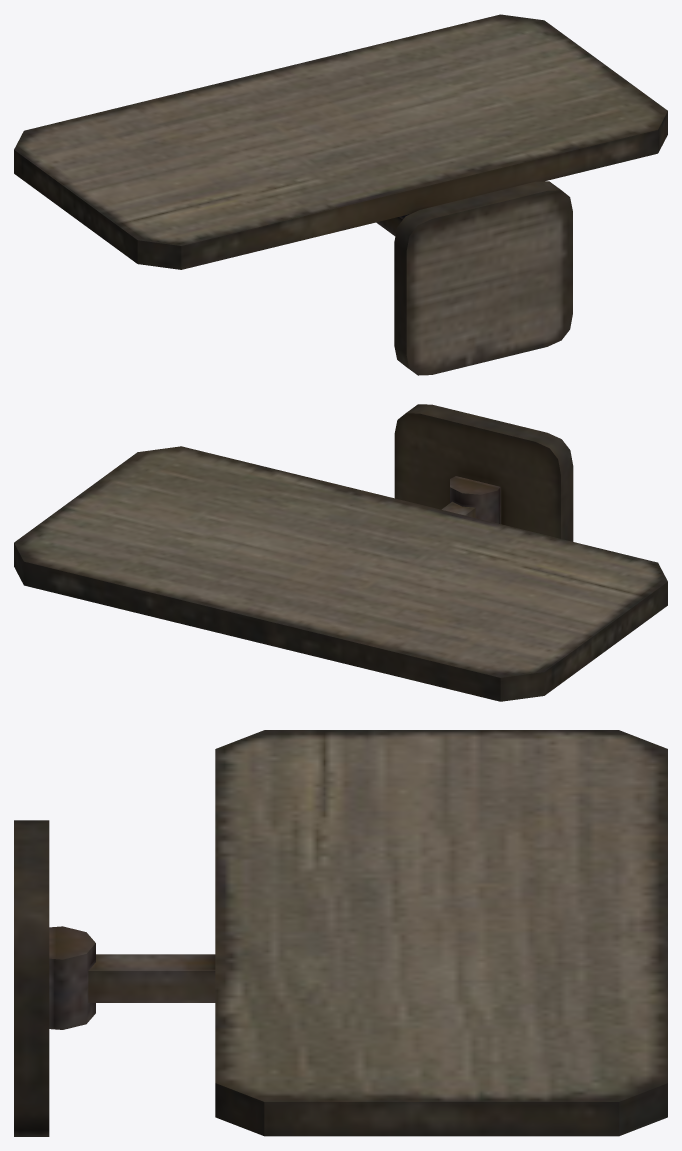
File: TV_Stand.FBX
3 renders of one model, top to bottom at view 1: azimuth 30°, elevation 25°; view 2: azimuth 150°, elevation 25°; view 3: azimuth 270°, elevation 25°, orthographic. The views are drawn at different scales.
Visible parts, largest first — view 1: TV_Stand; view 2: TV_Stand; view 3: TV_Stand.
Boxes of the visible parts, x1,y1,x2,y2 form: TV_Stand: (14, 14, 667, 375); TV_Stand: (14, 404, 667, 701); TV_Stand: (14, 730, 667, 1136).
Size of the model in its own units: 90.18 by 25.36 by 67.04.
